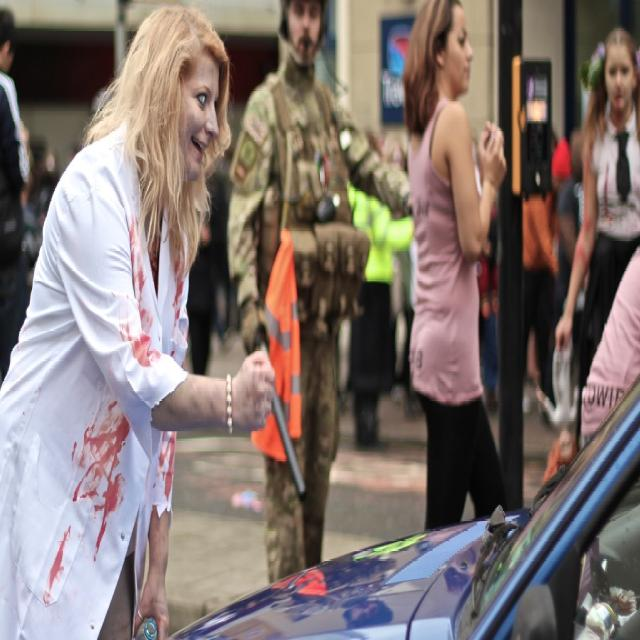car: (164, 364, 639, 638)
